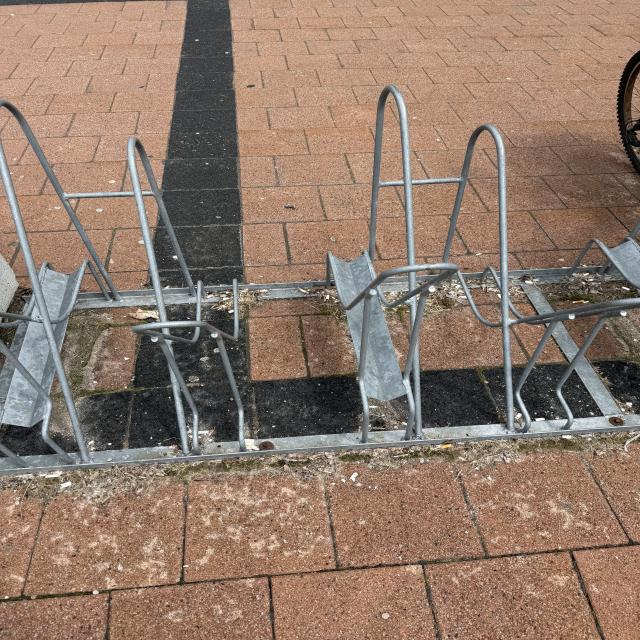Bicycle Rack: (0, 83, 640, 478)
